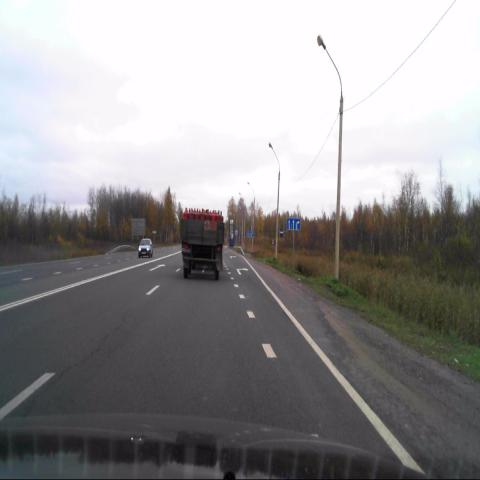5_15_1: (286, 218, 300, 230)
